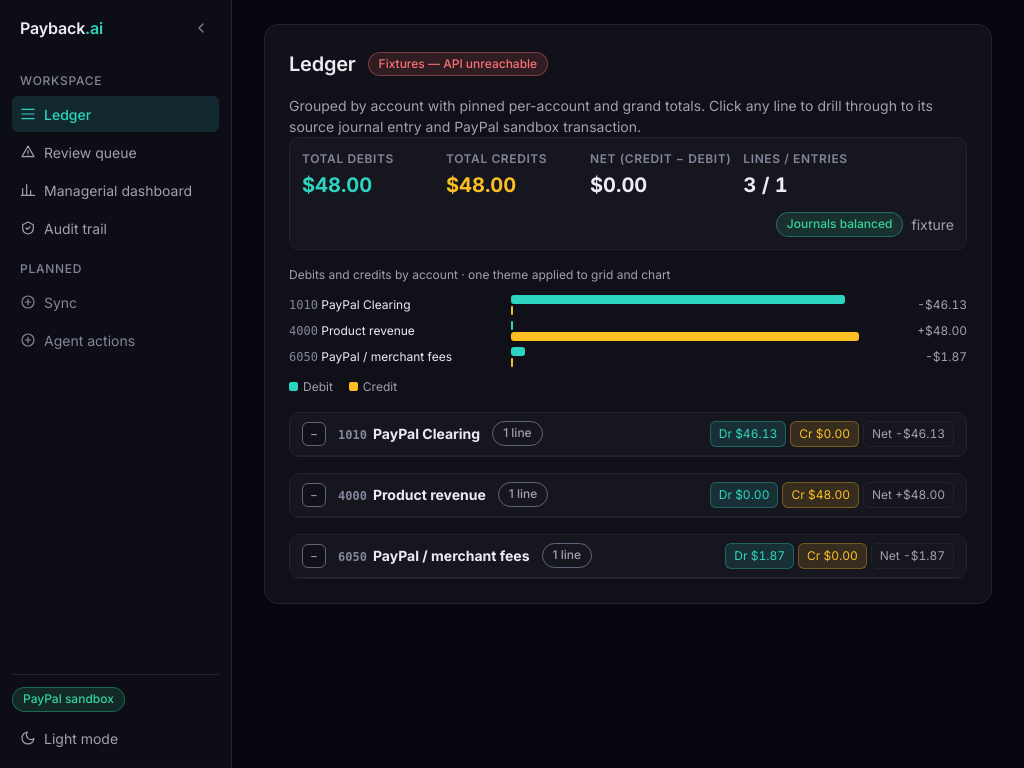
App navigation (ledger ⇄ managerial dashboard) › starts on the ledger and selects the managerial dashboard from the nav
This screenshot has width=1024, height=768.
expect the element with test id "pinned-totals" is shown: met, box [289, 137, 967, 250]
Click the button "Managerial dashboard" at (116, 190), box [12, 172, 219, 208]
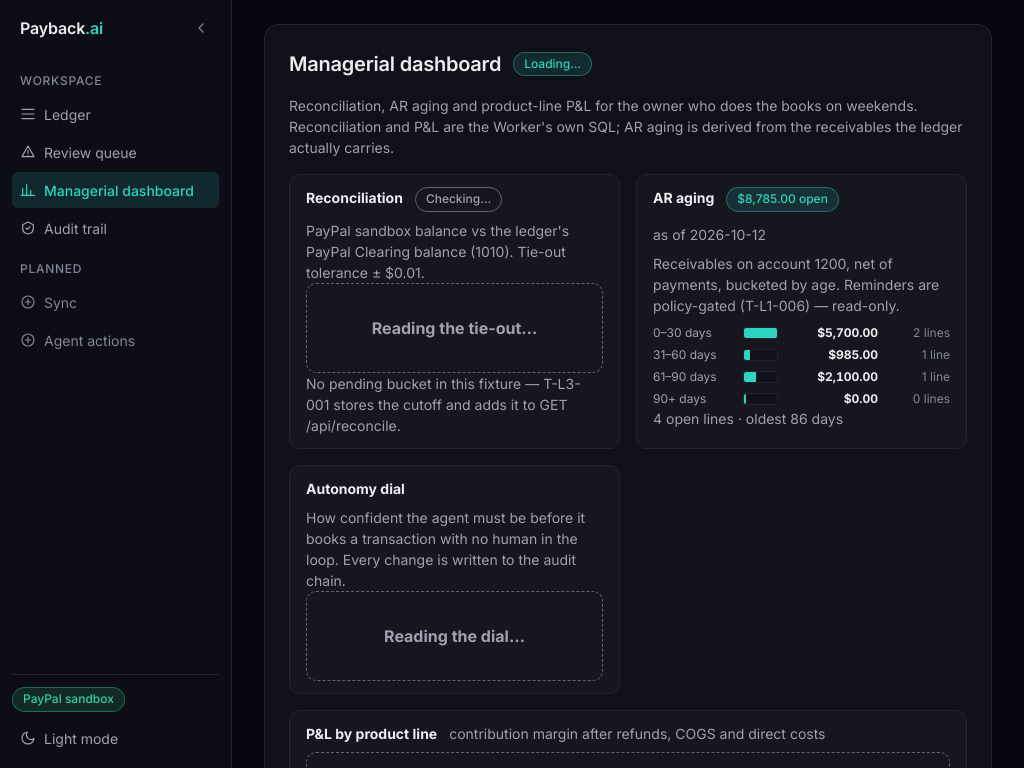
expect the element with test id "reconciliation-tile" is shown: met, box [289, 174, 620, 449]
expect the element with test id "ar-aging-widget" is shown: met, box [636, 174, 967, 449]
expect the element with test id "pinned-totals" is gone: met
Note: And back to the ledger — both screens stay usable.
Click the button "Ledger" at (116, 114), box [12, 96, 219, 132]
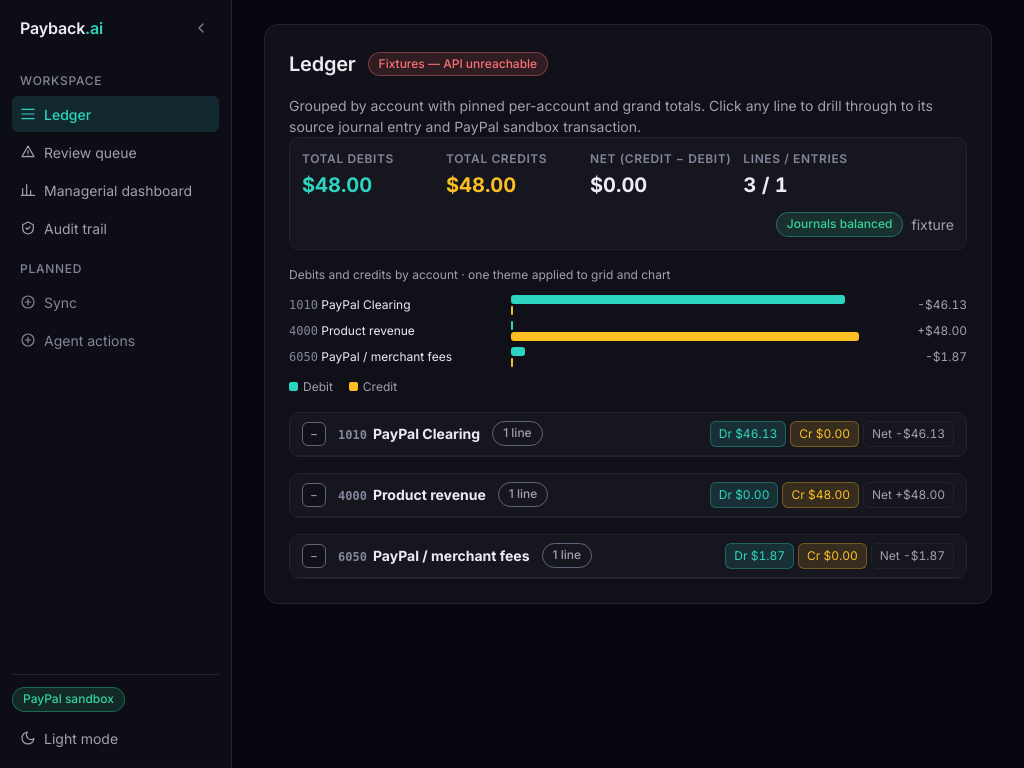
expect the element with test id "pinned-totals" is shown: met, box [289, 137, 967, 250]
